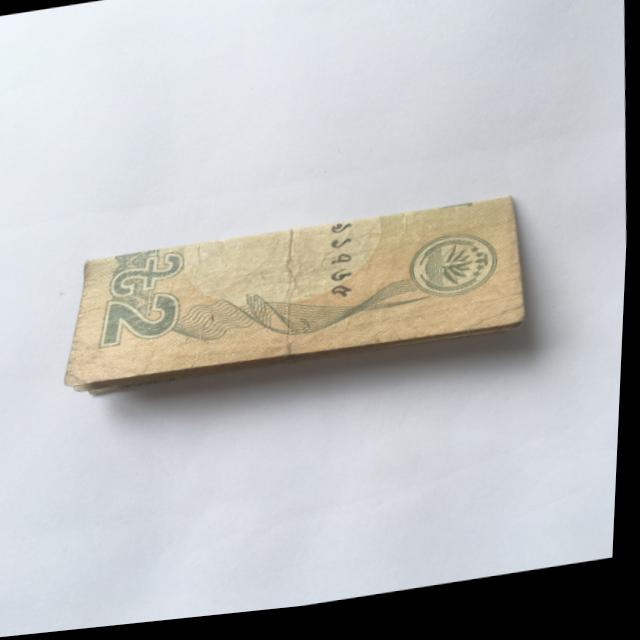Taka: (69, 197, 545, 401)
